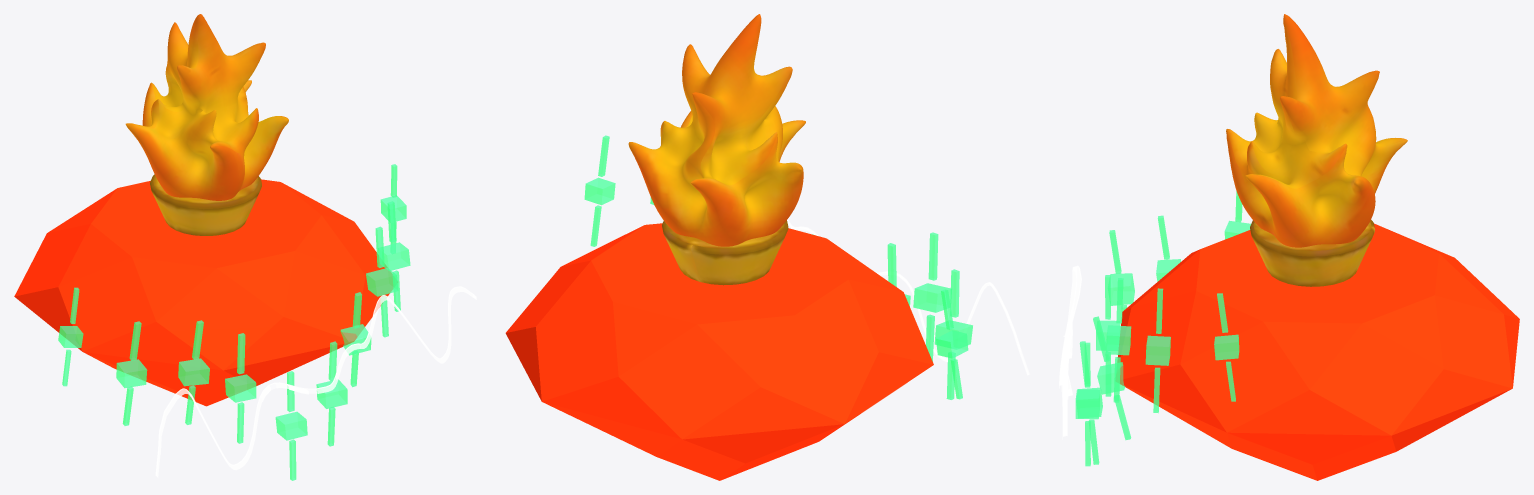
File: heart.glb
3 renders of one model, left to right at view 1: azimuth 30°, elevation 25°; view 2: azimuth 150°, elevation 25°; view 3: azimuth 270°, elevation 25°, orthographic. The views are drawn at different scales.
Visible parts, largest first — view 1: Heart, Heart1, Heart3, Heart4; view 2: Heart, Heart1, Heart3, Heart4; view 3: Heart, Heart1, Heart3, Heart4.
Part boxes in pixels (left/top/right/bottom): Heart: left=14, top=179, right=392, bottom=406; Heart1: left=125, top=14, right=288, bottom=235; Heart3: left=58, top=164, right=410, bottom=480; Heart4: left=155, top=286, right=476, bottom=477; Heart: left=505, top=223, right=933, bottom=480; Heart1: left=628, top=14, right=805, bottom=285; Heart3: left=584, top=135, right=972, bottom=399; Heart4: left=787, top=219, right=1029, bottom=375; Heart: left=1117, top=223, right=1519, bottom=480; Heart1: left=1226, top=14, right=1407, bottom=286; Heart3: left=1075, top=191, right=1250, bottom=466; Heart4: left=1059, top=265, right=1081, bottom=439.
Bounding box in the file's own units: 0.0595 × 0.0683 × 0.0626.
Materials: 5 (1 with a texture image).
